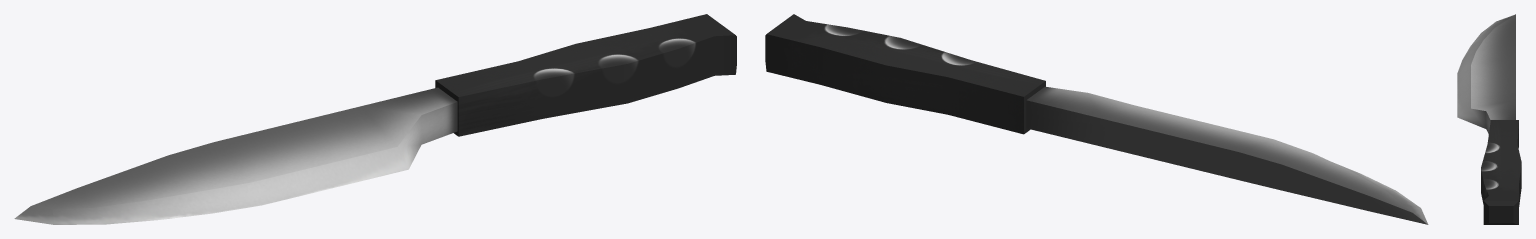
File: WpMD_knife_0101.fbx
3 views of the same model, side by side, from view 1: azimuth 30°, elevation 25°; view 2: azimuth 150°, elevation 25°; view 3: azimuth 270°, elevation 25° (orthographic). The views are drawn at different scales.
Parts seen in each view (by area): view 1: pCube3; view 2: pCube3; view 3: pCube3.
Boxes of the visible parts, bbox=[...] form: pCube3: bbox=[14, 14, 736, 224]; pCube3: bbox=[765, 14, 1428, 224]; pCube3: bbox=[1457, 14, 1521, 224].
Bounding box in the file's own units: 20.65 × 1.12 × 2.7.
Materials: 1 (1 with a texture image).
